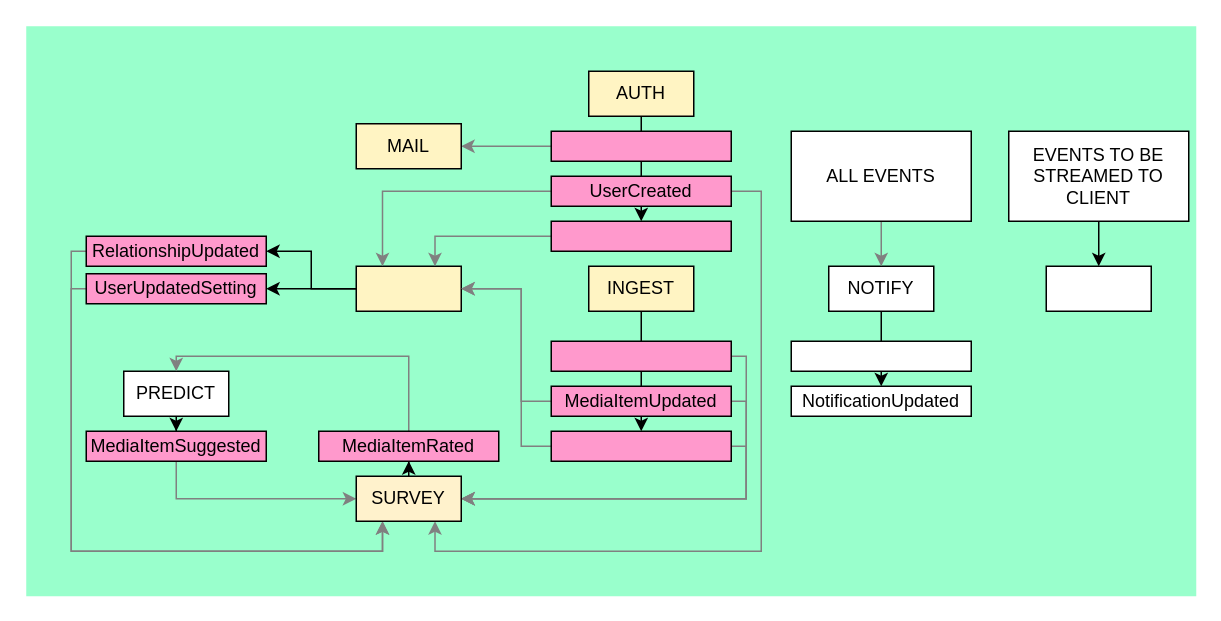
Some shapes in this 1221 by 621 pixel diagram are drawn without their labels. Here are the shapes that lost their labels. From the top down, the box of each, then its label:
(550, 130, 731, 161): EmailTokenCreated
(550, 220, 731, 251): UserUpdatedEmail
(355, 265, 461, 311): USER
(1045, 265, 1151, 311): COMMS
(550, 340, 731, 371): GenreDetected
(790, 340, 971, 371): NotificationCreated
(550, 430, 731, 461): MediaItemDestroyed
